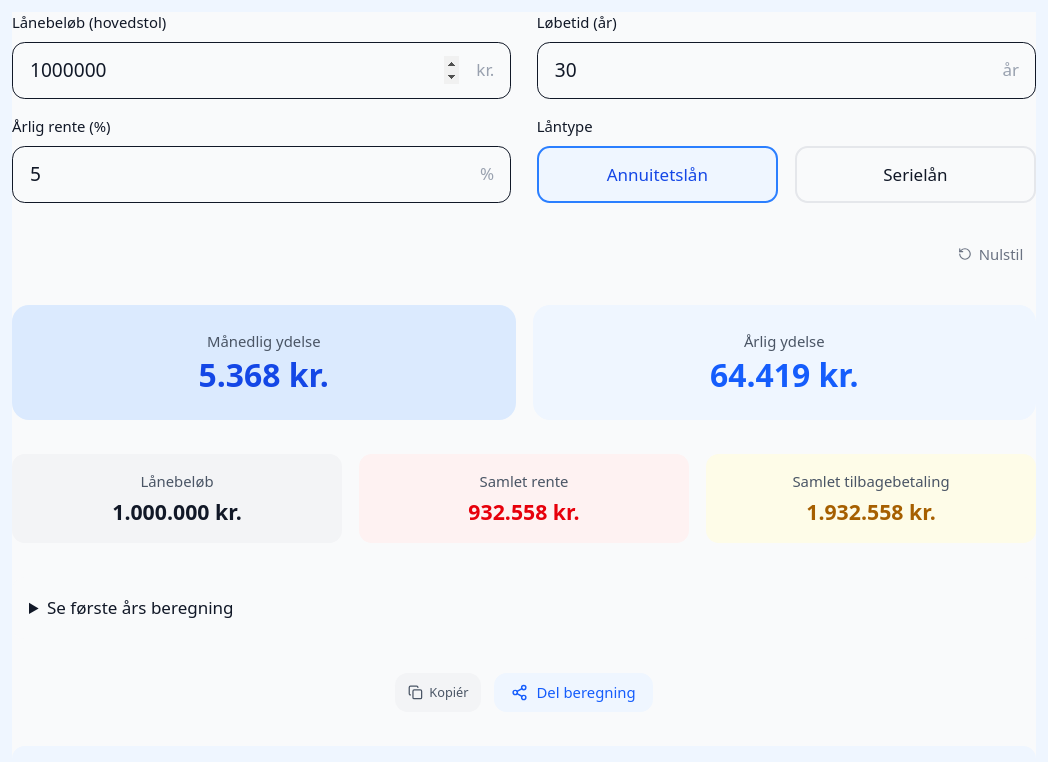
Test case: LaanebeloebTabel › serielån får en lavere rente end annuitetslån på samme lån
Click the button "Serielån" at (915, 175), box [795,146,1036,203]
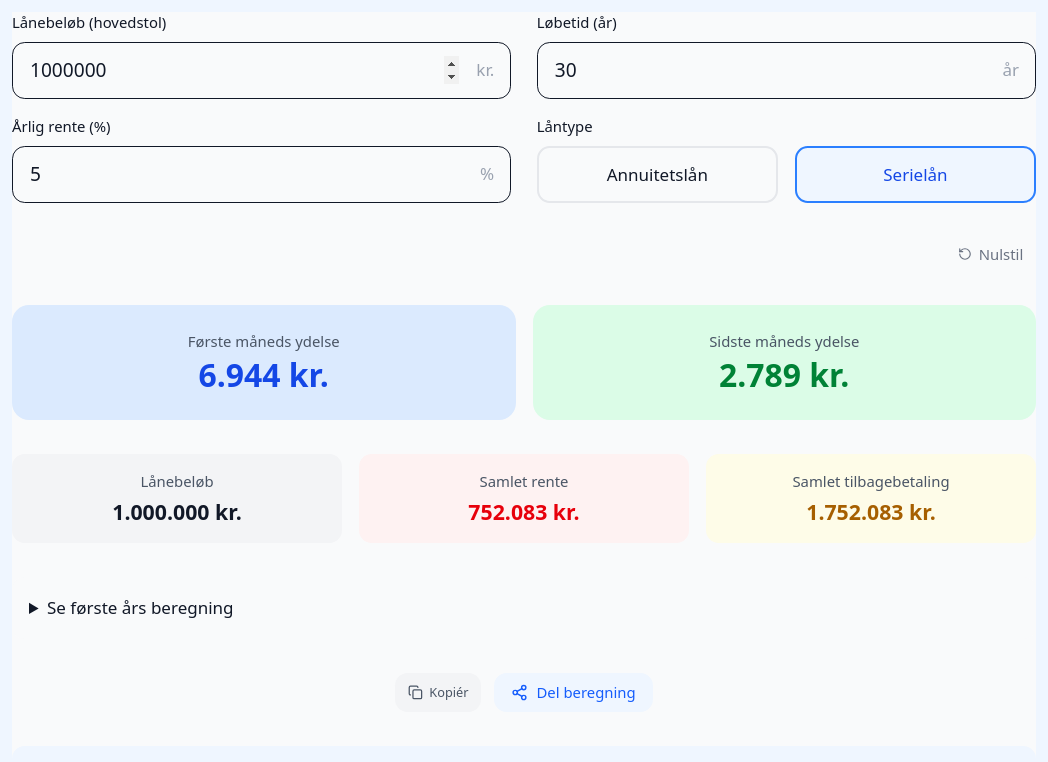
Result: the text "752.083 kr." is shown at [468,496,580,526]
